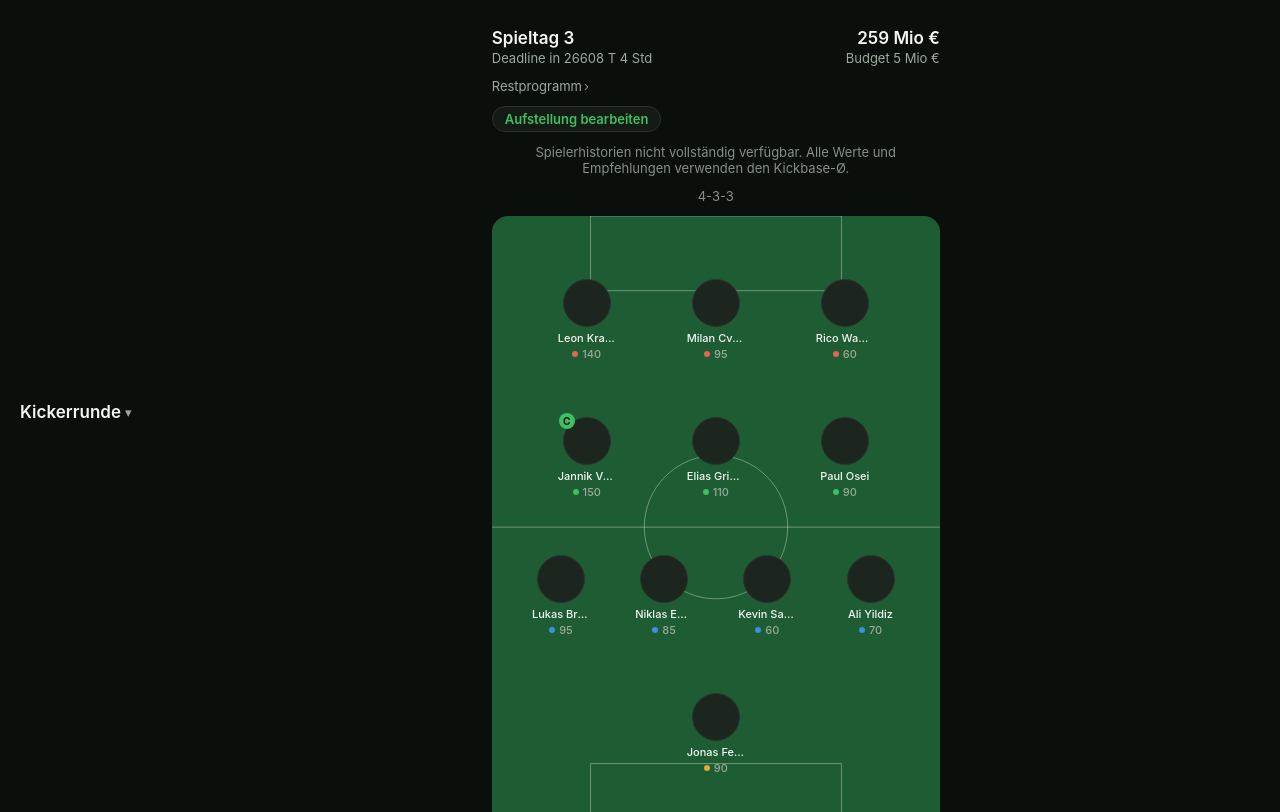
Test: LineupScreen › verlässt den Bearbeitungsmodus nach dem Speichern
Step 1. Click the button "Aufstellung bearbeiten" → [577, 119], box top-left (492, 106), bottom-right (662, 132)
(page scrolled)
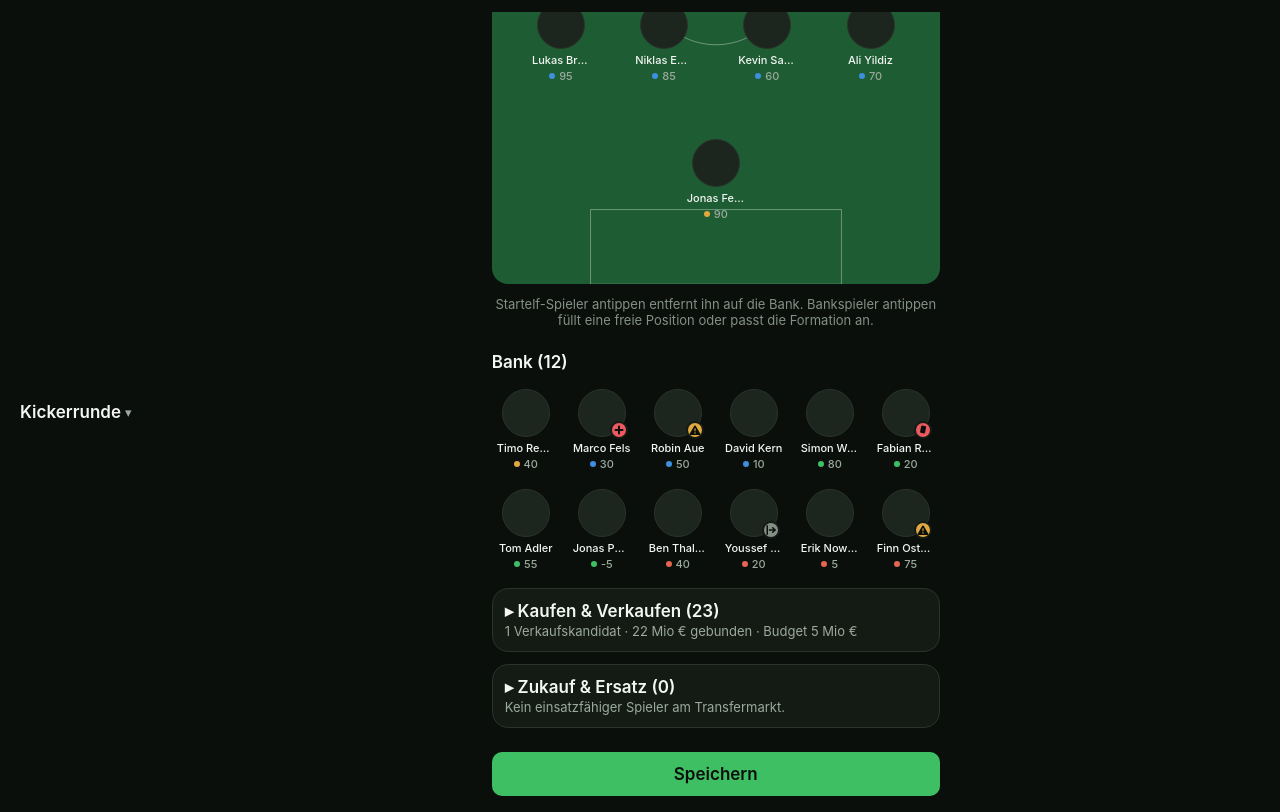
Step 2. Click the button "Speichern" → [716, 774], box top-left (492, 752), bottom-right (940, 796)
(page scrolled)
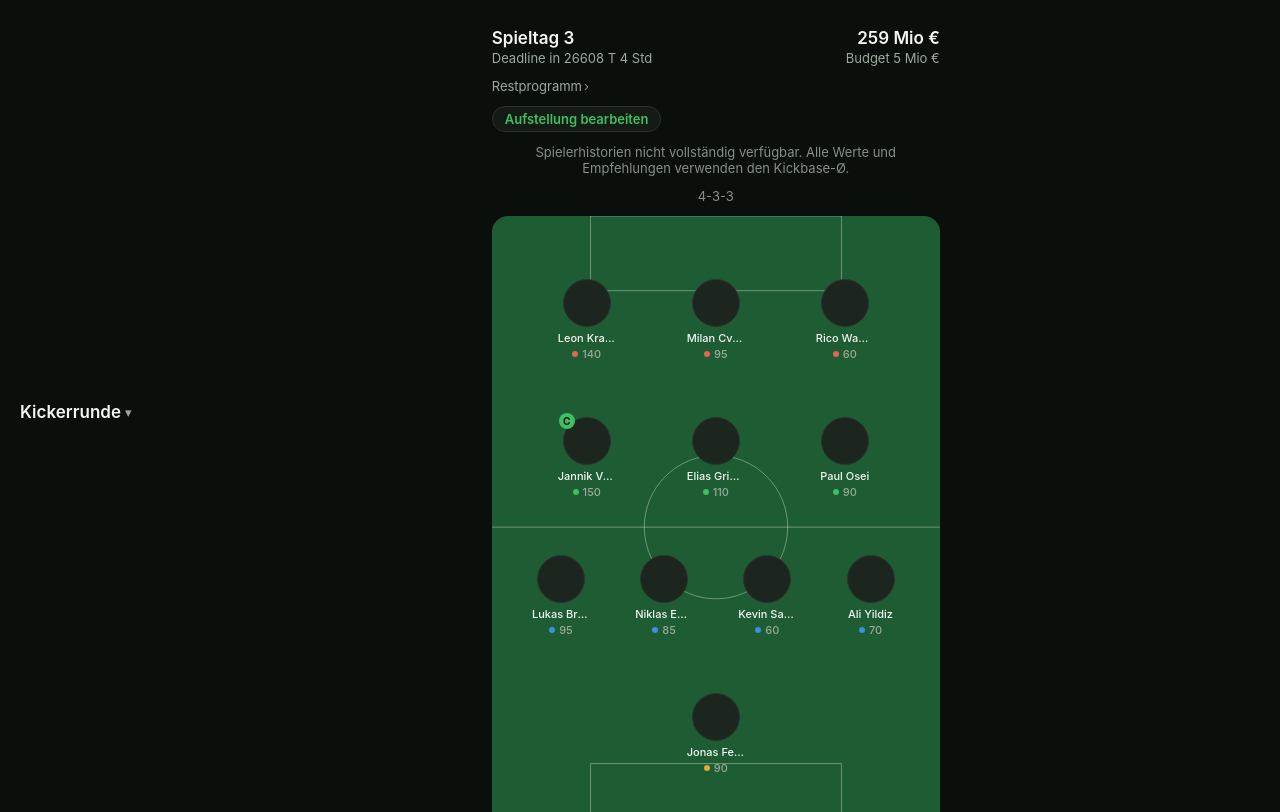
Check: the button "Aufstellung bearbeiten" is shown, box top-left (492, 106), bottom-right (662, 132)
